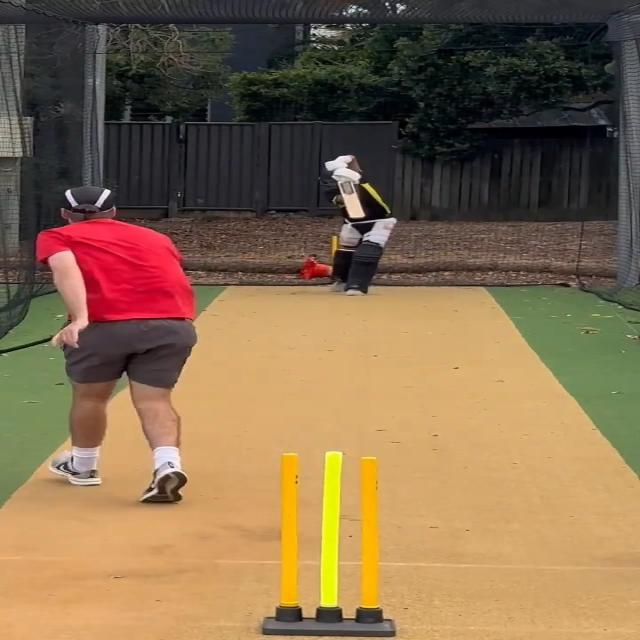stump: (263, 450, 395, 635)
